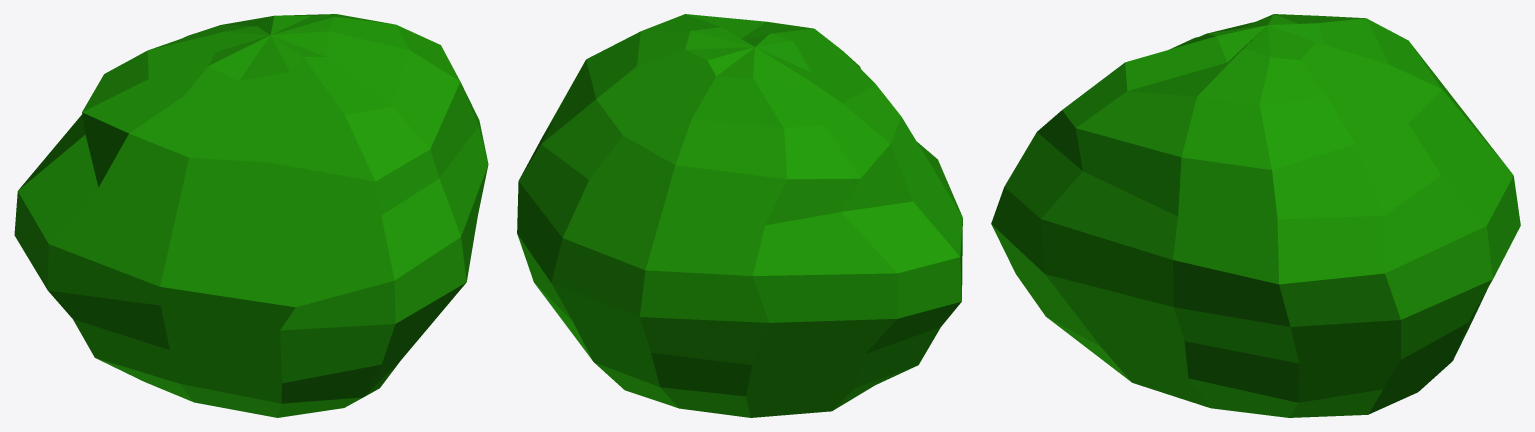
Rendered from BerryBush.fbx.
The picture shows the model from 3 angles, left to right: view 1: azimuth 30°, elevation 25°; view 2: azimuth 150°, elevation 25°; view 3: azimuth 270°, elevation 25°; orthographic projection. The views are drawn at different scales.
Visible parts, largest first — view 1: Bush; view 2: Bush; view 3: Bush.
Part boxes in pixels (<box>): Bush: <box>14,14,488,417</box>; Bush: <box>517,14,962,417</box>; Bush: <box>991,14,1520,417</box>.
Size of the model in its own units: 253 by 180 by 254.
